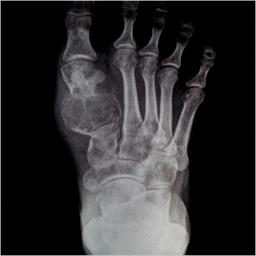cancer: (58, 64, 123, 139)
